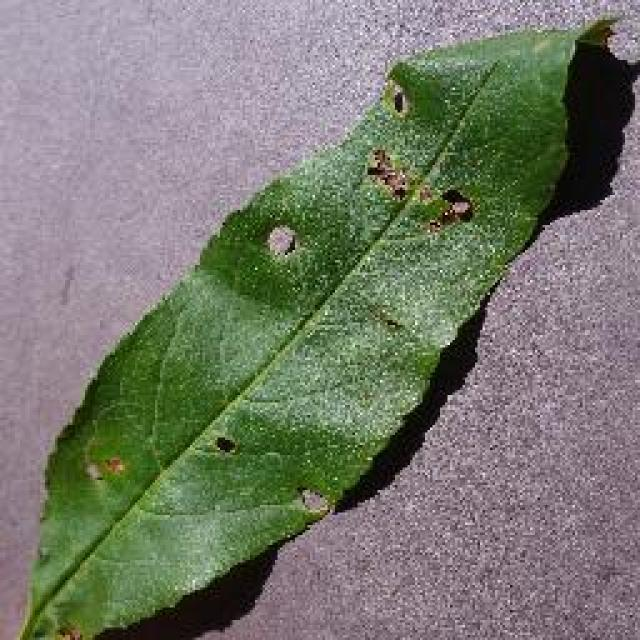Peach_Bacterial_Spot: (320, 51, 490, 332)
